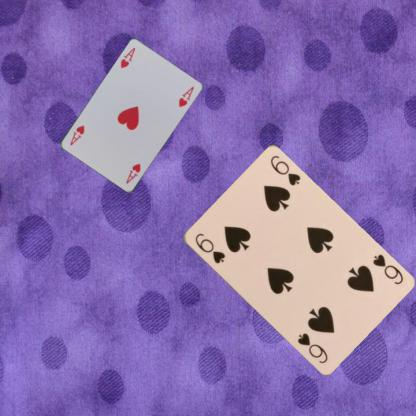6s: (370, 251, 404, 286), (192, 231, 226, 265)
Ah: (118, 45, 137, 70), (123, 161, 142, 185)
